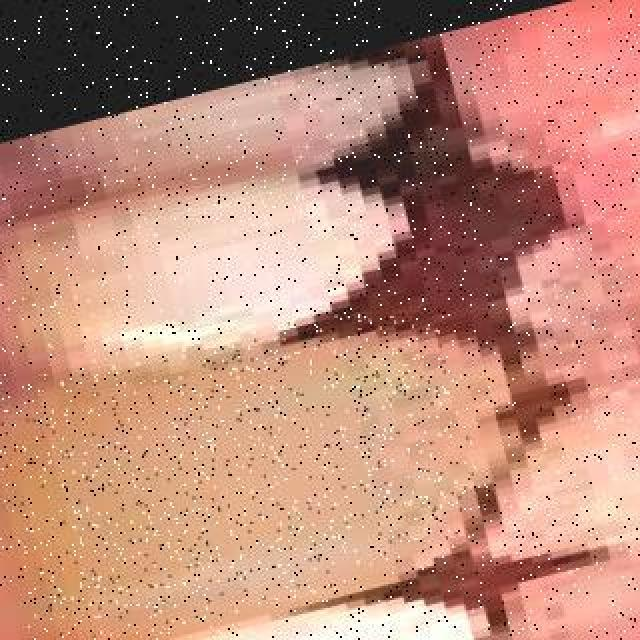cavities: (0, 284, 494, 640)
